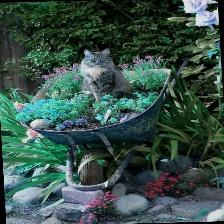kedo: (78, 49, 138, 102)
